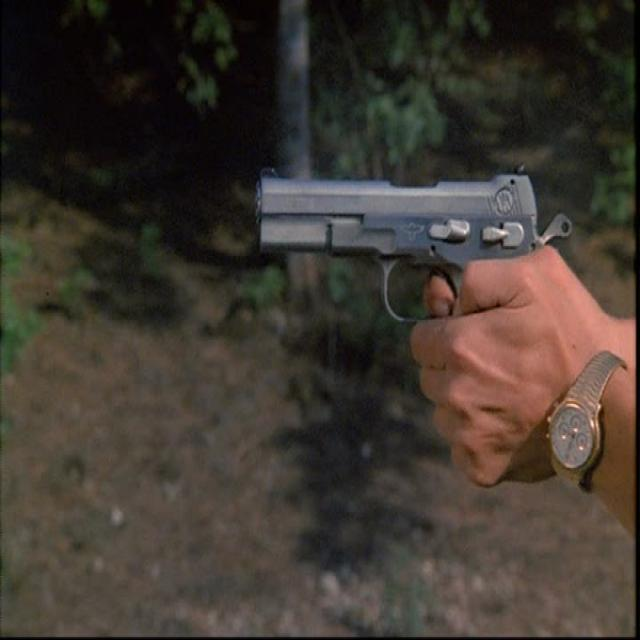weapons: (231, 108, 584, 382)
